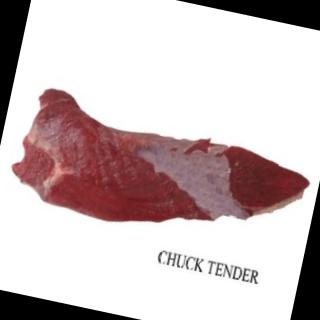Daging Sapi: (9, 86, 317, 263)
